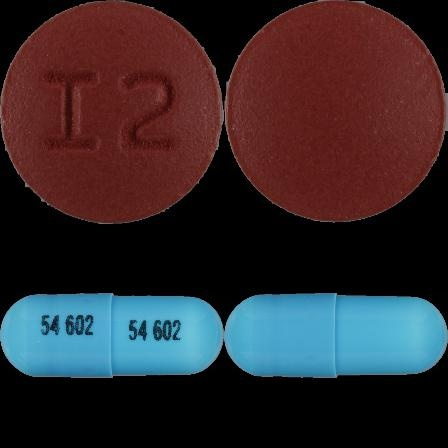45865-432: (0, 0, 224, 224)
